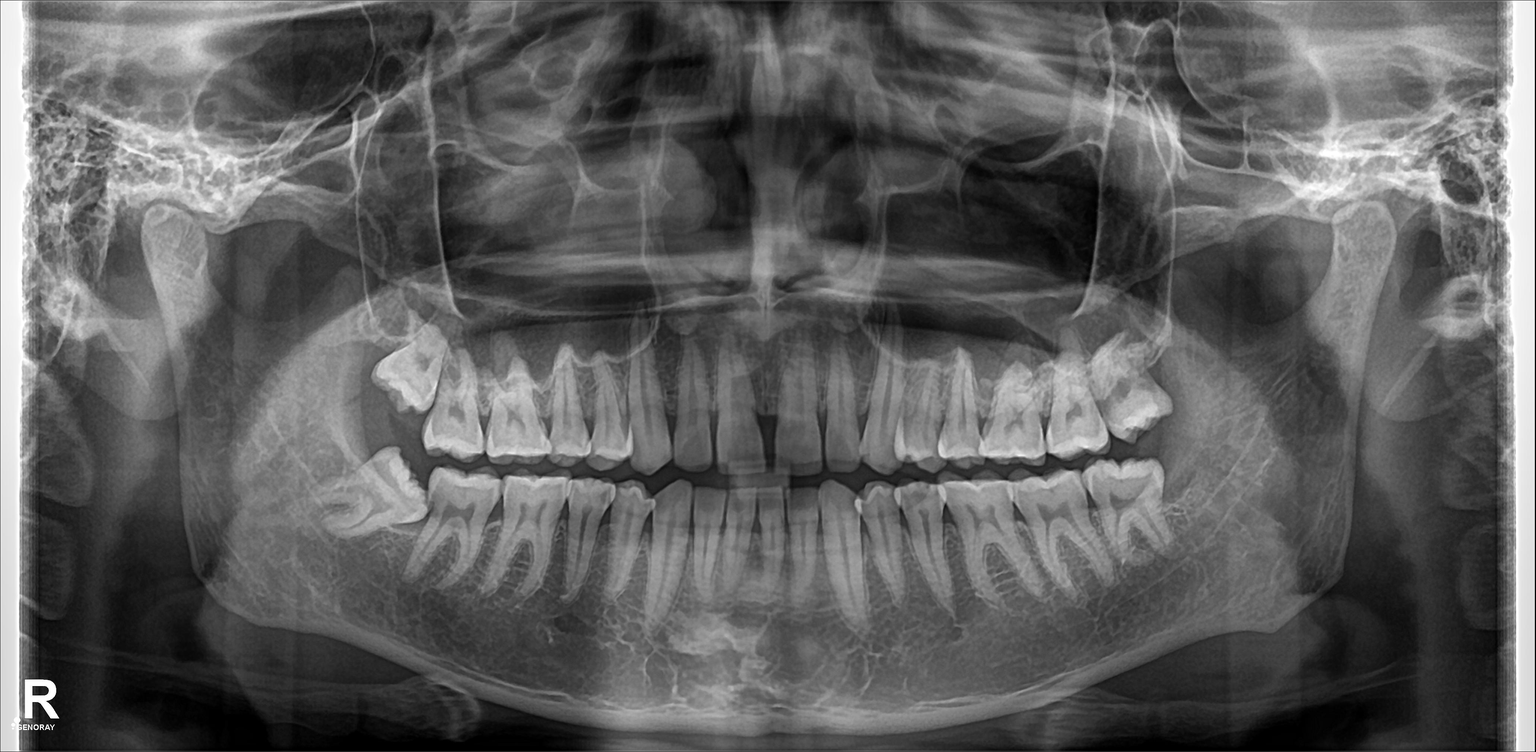Dental Caries: (896, 487, 936, 515)
Impacted Third Molar: (307, 456, 428, 532), (369, 341, 445, 414)
